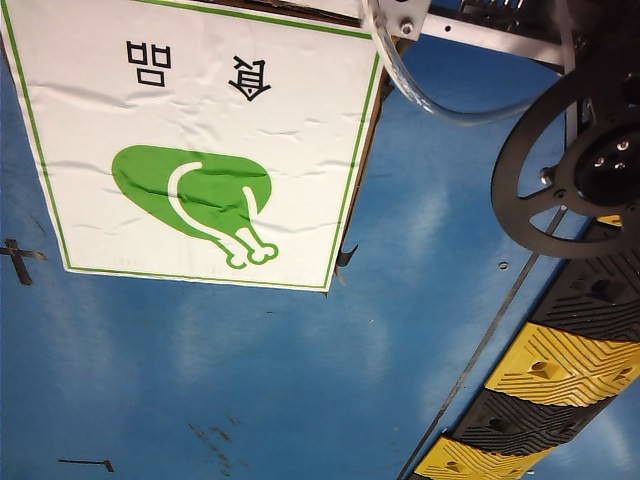Cube_food: (67, 24, 344, 277)
